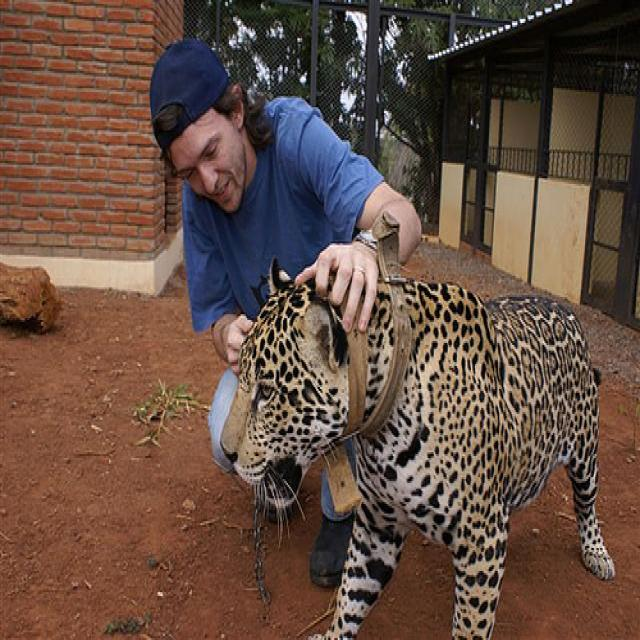Leopard: (216, 255, 616, 636)
